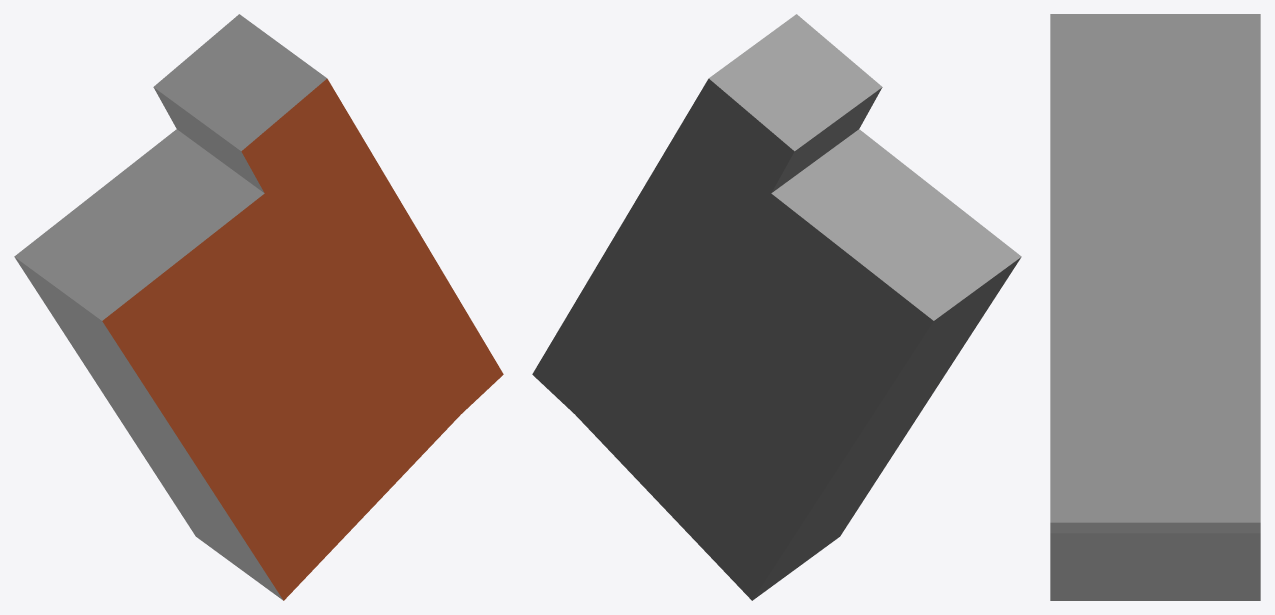
Rendered from construction_1759_assumed_A_Casa_h6m.obj.
3 views of the same model, side by side, from view 1: azimuth 30°, elevation 25°; view 2: azimuth 150°, elevation 25°; view 3: azimuth 270°, elevation 25° (orthographic). The views are drawn at different scales.
Parts seen in each view (by area): view 1: construction_1759_assumed_A_Casa; view 2: construction_1759_assumed_A_Casa; view 3: construction_1759_assumed_A_Casa.
Part boxes in pixels (left/top/right/bottom): construction_1759_assumed_A_Casa: left=14, top=14, right=503, bottom=600; construction_1759_assumed_A_Casa: left=532, top=14, right=1021, bottom=600; construction_1759_assumed_A_Casa: left=1050, top=14, right=1260, bottom=600.
Size of the model in its own units: 15.82 by 19.27 by 6.
